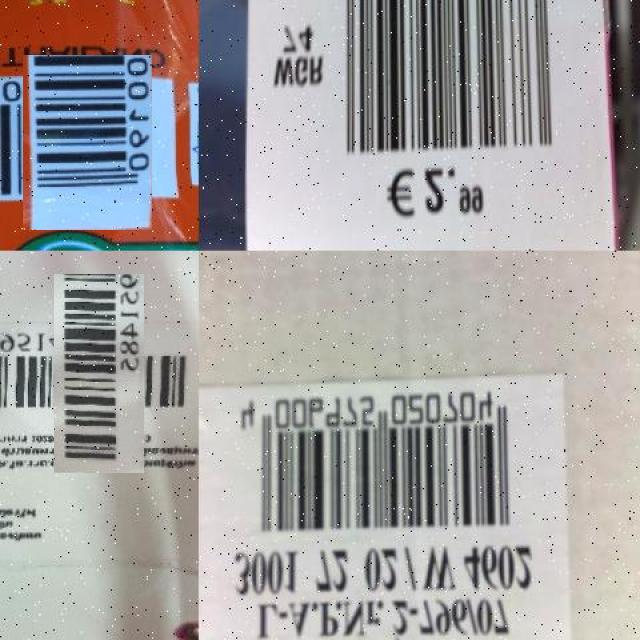Barcode: (235, 383, 520, 540), (325, 0, 567, 164), (11, 66, 164, 218), (27, 301, 172, 446)
